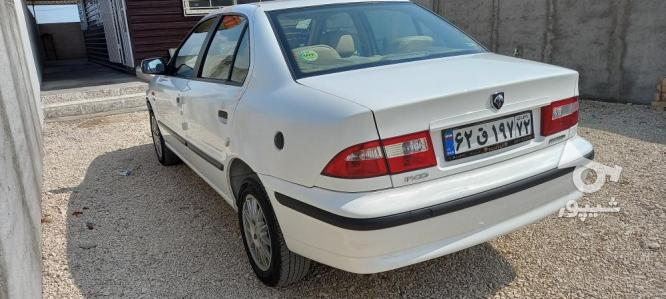car: (440, 112, 534, 163)
